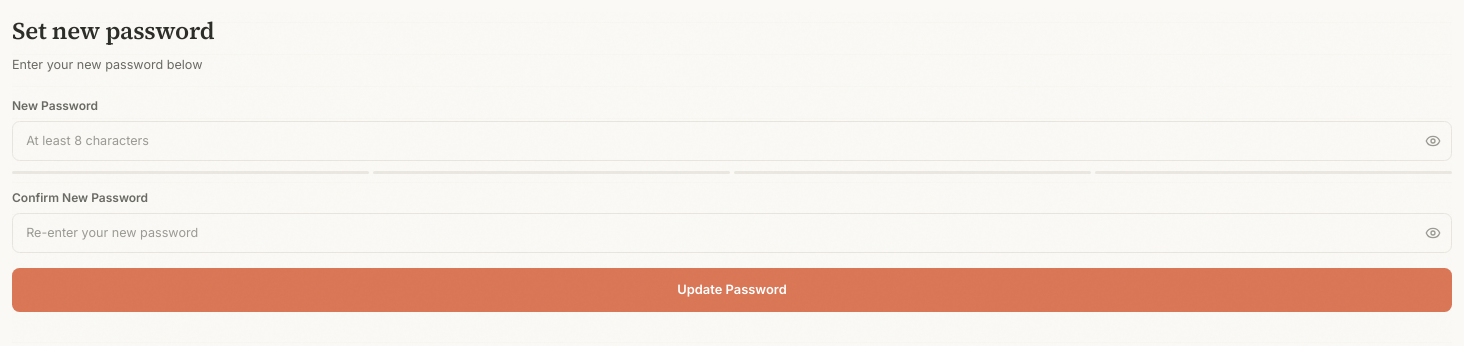
UpdatePasswordForm › shows success message after password update
Type "MyNewPass1!" into the password field with placeholder "At least 8 characters". click: (732, 141)
box: x1=12 y1=121 x2=1452 y2=161
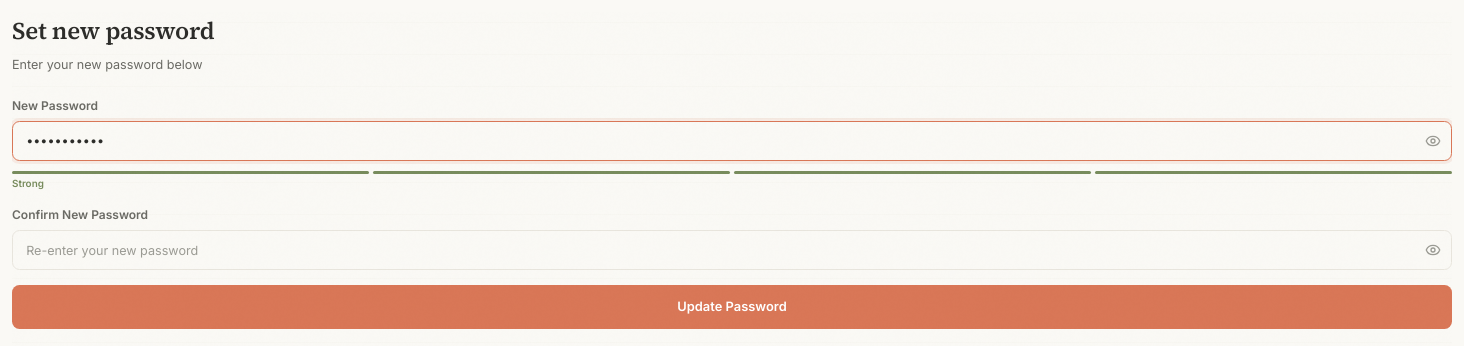
Type "MyNewPass1!" into the password field with placeholder "Re-enter your new password". click: (732, 250)
box: x1=12 y1=230 x2=1452 y2=270
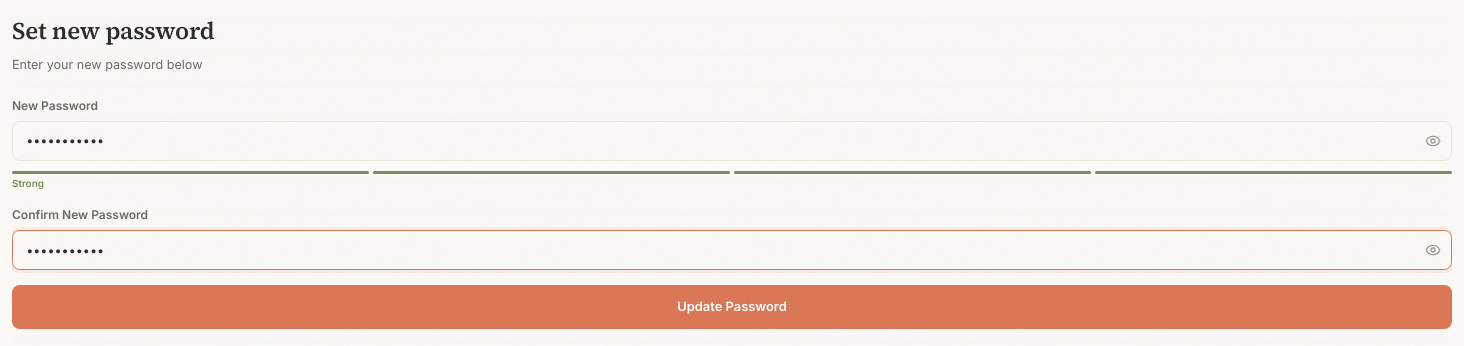
Click the button "Update Password". click: click(732, 307)
box: x1=12 y1=285 x2=1452 y2=329
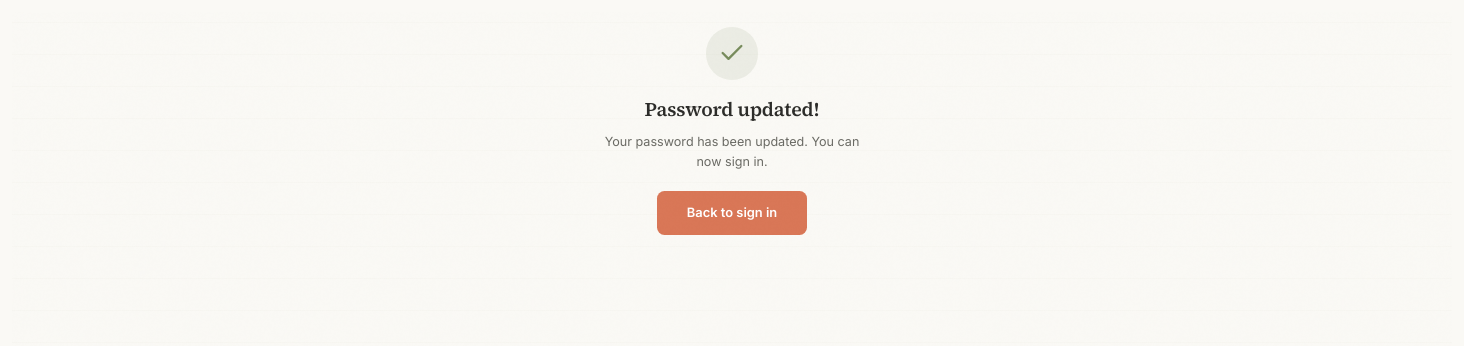
Check: the heading "Password updated!" is shown, box x1=644 y1=94 x2=820 y2=125
Check: the text "Your password has been updated. You can now sign in." is shown, box x1=592 y1=132 x2=872 y2=172
